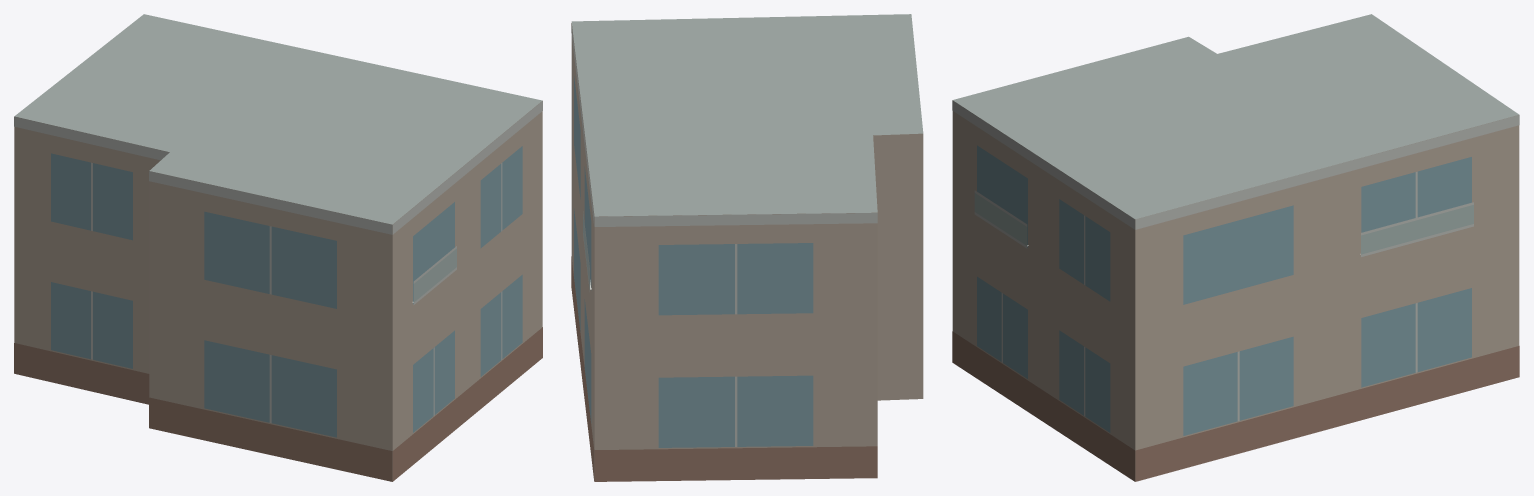
File: survey-upis-32581648.glb
The picture shows the model from 3 angles, left to right: view 1: azimuth 30°, elevation 25°; view 2: azimuth 150°, elevation 25°; view 3: azimuth 270°, elevation 25°; orthographic projection. The views are drawn at different scales.
Visible parts, largest first — view 1: survey-upis-32581648.tmp; view 2: survey-upis-32581648.tmp; view 3: survey-upis-32581648.tmp.
Boxes of the visible parts, <box> form: survey-upis-32581648.tmp: <box>14,14,542,481</box>; survey-upis-32581648.tmp: <box>571,14,923,481</box>; survey-upis-32581648.tmp: <box>952,14,1519,481</box>.
Size of the model in its own units: 10.25 by 6.1 by 11.96.
